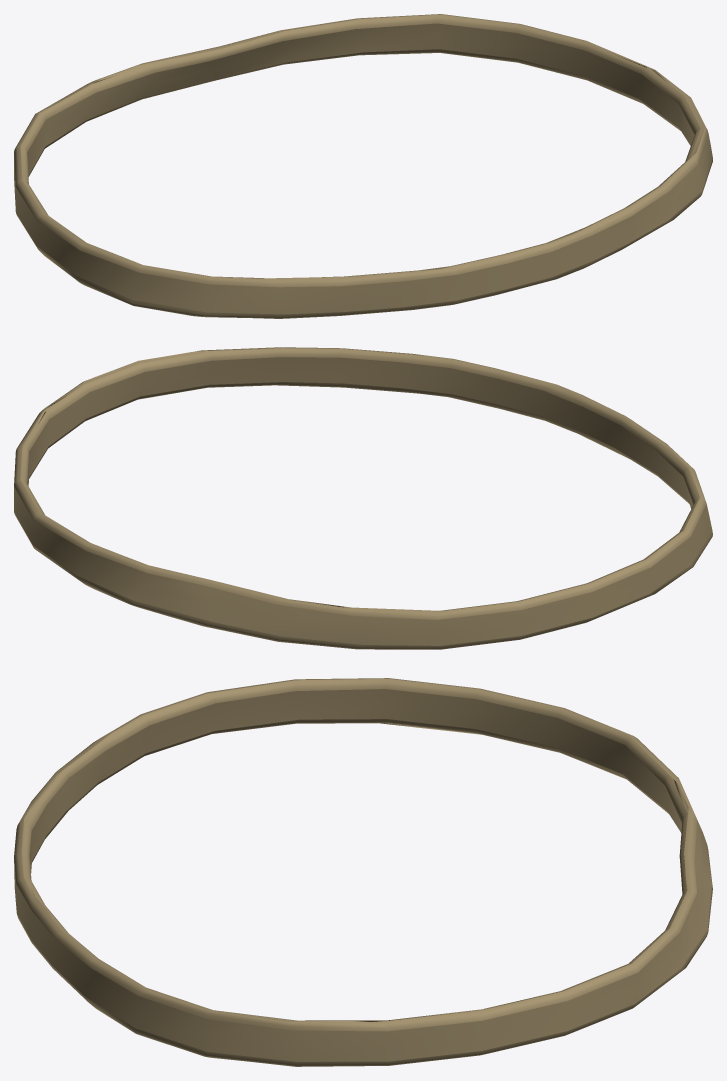
File: armor.farmer.default.gltf
The picture shows the model from 3 angles, top to bottom: view 1: azimuth 30°, elevation 25°; view 2: azimuth 150°, elevation 25°; view 3: azimuth 270°, elevation 25°; orthographic projection. The views are drawn at different scales.
Visible parts, largest first — view 1: farmer.belt; view 2: farmer.belt; view 3: farmer.belt.
Boxes of the visible parts, x1,y1,x2,y2 form: farmer.belt: (14,14,712,318); farmer.belt: (14,347,712,649); farmer.belt: (14,678,712,1066).
Bounding box in the file's own units: 0.4258 × 0.0274 × 0.3596.
